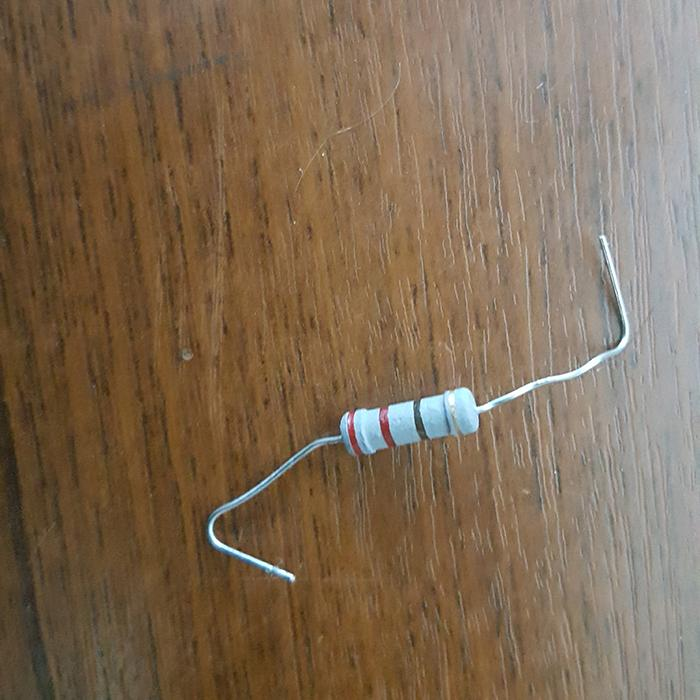resistor: (339, 386, 481, 456)
